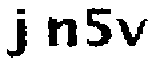5: (84, 5, 112, 49)
j: (3, 5, 31, 60)
n: (42, 14, 78, 51)
v: (114, 15, 149, 48)
